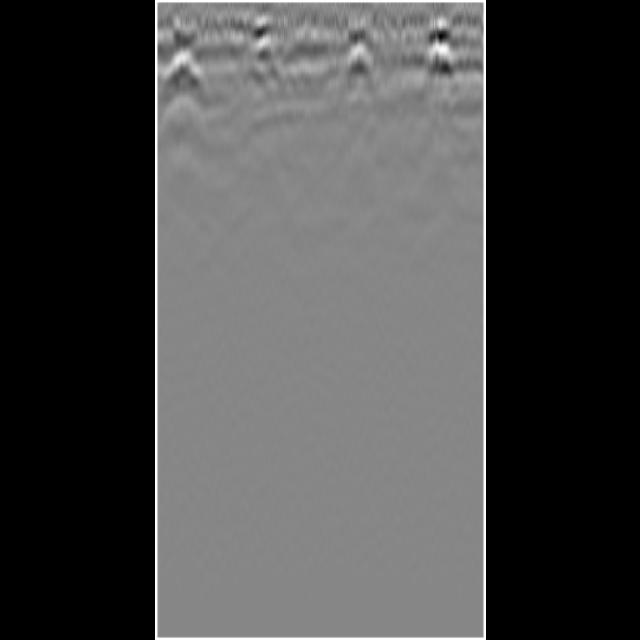hyperbola: (330, 37, 386, 93), (158, 44, 205, 98), (416, 40, 459, 94)
